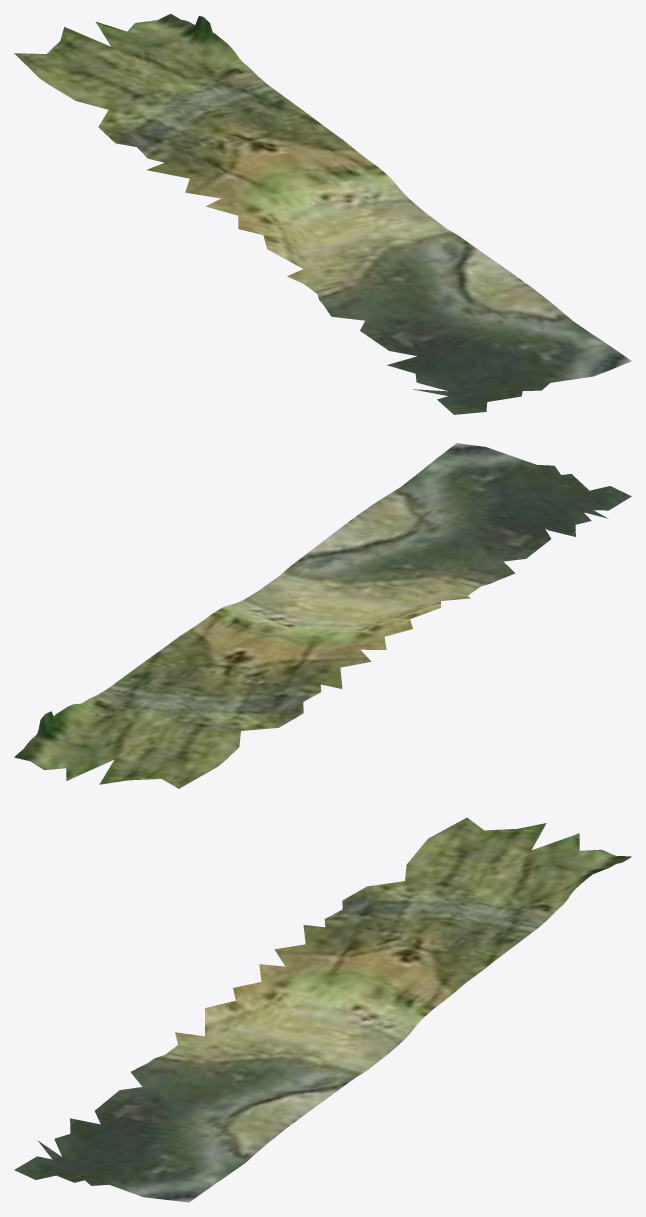
The model's file is Tile_003_000_L14_433.glb.
The picture shows the model from 3 angles, top to bottom: view 1: azimuth 30°, elevation 25°; view 2: azimuth 150°, elevation 25°; view 3: azimuth 330°, elevation 25°; orthographic projection.
Parts seen in each view (by area): view 1: rtc; view 2: rtc; view 3: rtc.
Part boxes in pixels (left/top/right/bottom): rtc: left=14, top=14, right=631, bottom=414; rtc: left=14, top=443, right=631, bottom=788; rtc: left=14, top=817, right=631, bottom=1202.
Bounding box in the file's own units: 16.26 × 4.12 × 70.8.
1 material, 1 textured.
